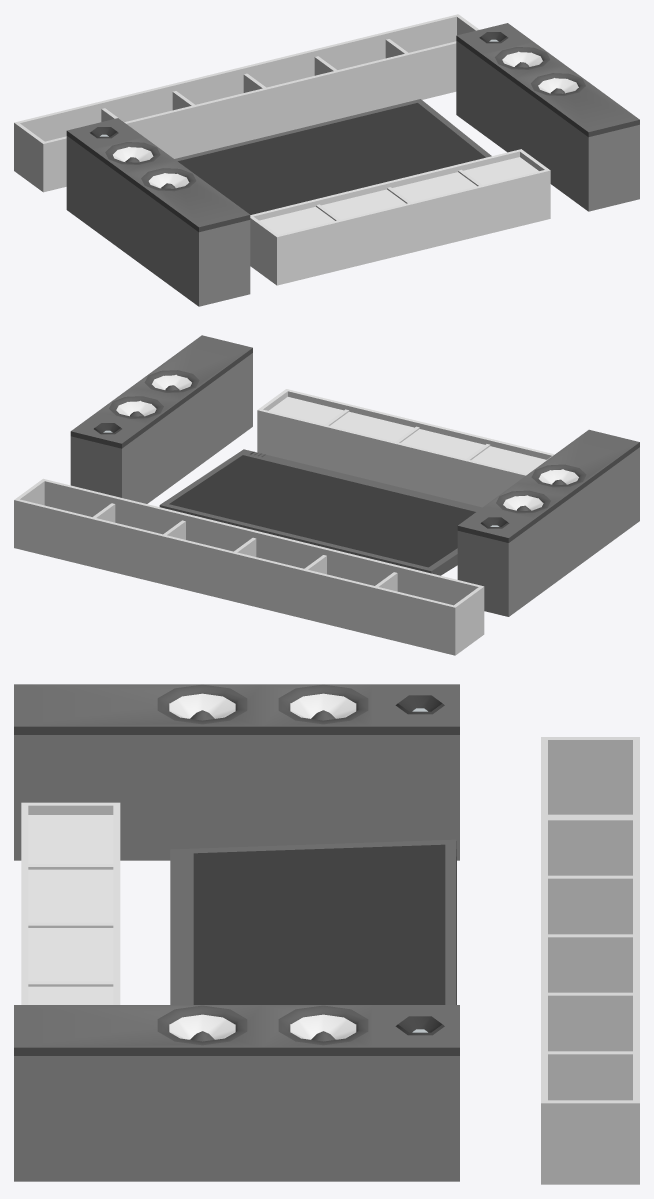
Rendered from tv-wall.glb.
3 views of the same model, one above another, from view 1: azimuth 30°, elevation 25°; view 2: azimuth 150°, elevation 25°; view 3: azimuth 270°, elevation 25° (orthographic). The views are drawn at different scales.
Parts seen in each view (by area): view 1: tv_wall_019; view 2: tv_wall_019; view 3: tv_wall_019.
Boxes of the visible parts, left/top/right/bottom form: tv_wall_019: left=14, top=14, right=639, bottom=306; tv_wall_019: left=14, top=335, right=639, bottom=655; tv_wall_019: left=14, top=684, right=639, bottom=1184.
Size of the model in its own units: 3.01 by 0.5213 by 2.17.
Materials: 1 (1 with a texture image).
